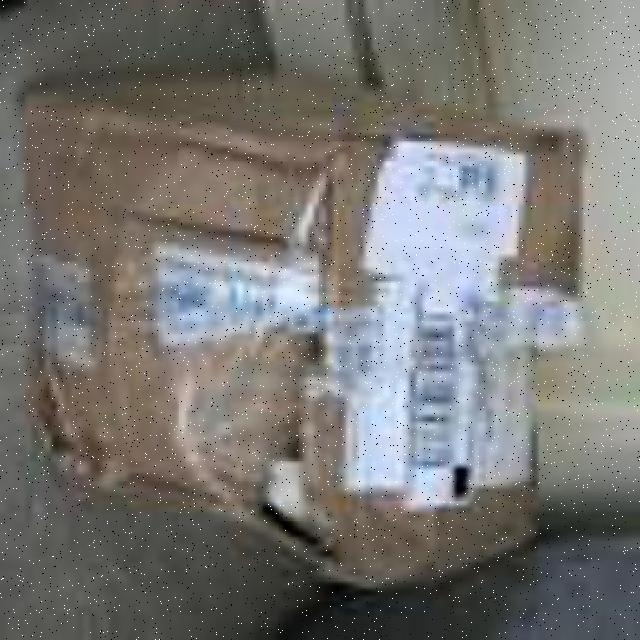defect: (15, 63, 591, 597)
